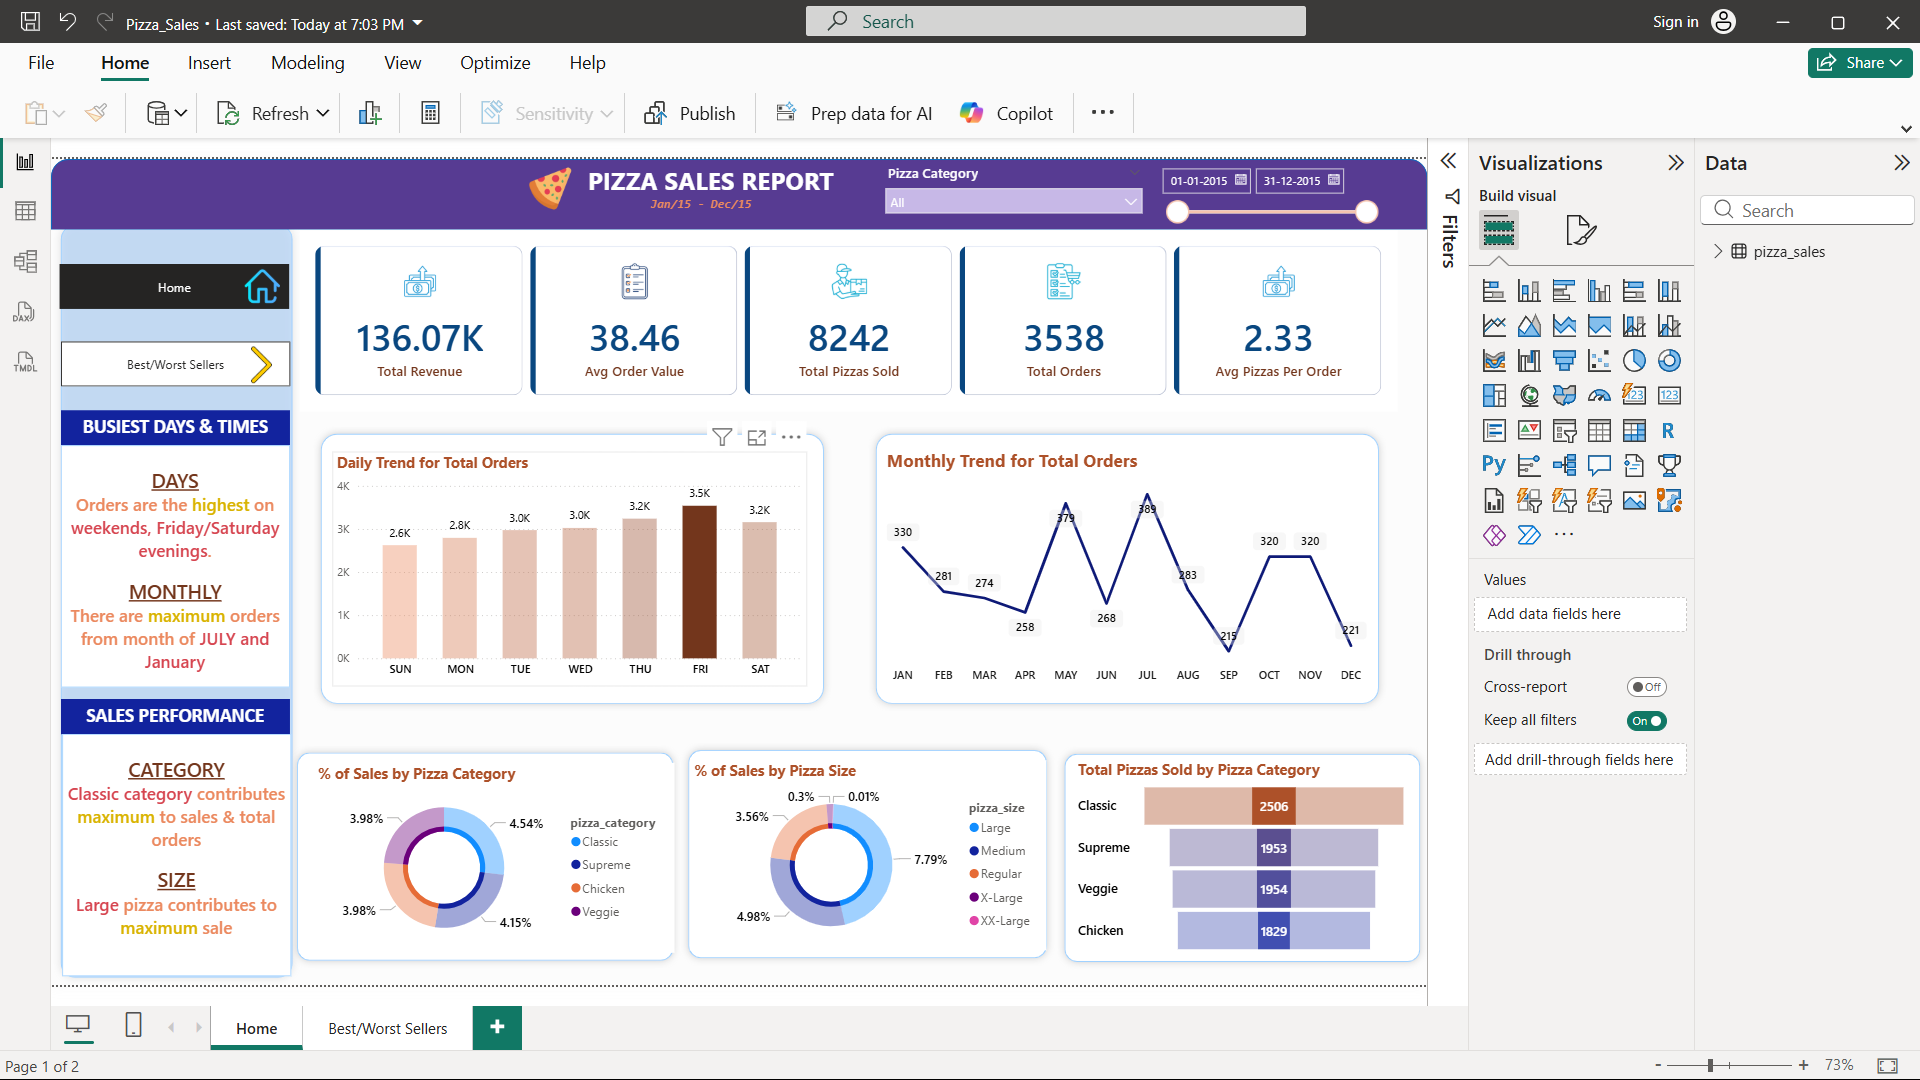

What the dashboard file says about the page in this screenshot:
{"tool":"powerbi","page":{"name":"Home","canvas":[1500,900],"ordinal":0},"visuals":[{"type":"shape","box":[3.2,64.3,268.5,836.2],"z":0},{"type":"textbox","box":[11.3,273.4,249.3,38.6],"z":1000},{"type":"cardVisual","fields":{"Data":["pizza_sales.Total Revenue","pizza_sales.Avg Order Value","pizza_sales.Total Pizzas Sold","pizza_sales.Total Orders","pizza_sales.Avg Pizzas Per Order"]},"box":[271.8,77.2,1196.4,197.8],"z":2000},{"type":"shape","box":[0,0,1500.3,77.2],"z":3000},{"type":"textbox","box":[580.5,0,289.5,45],"z":4000},{"type":"textbox","box":[648.1,33.8,152.8,30.6],"z":5000},{"type":"image","box":[490.5,8,107.7,48.2],"z":6000},{"type":"shape","box":[285.9,292,564.4,310.4],"z":7000},{"type":"columnChart","title":"Daily Trend for Total Orders","fields":{"Category":["pizza_sales.Order Day"],"Y":["pizza_sales.Total Orders"]},"box":[306.8,319.4,517.8,255.7],"z":8000},{"type":"shape","box":[890.5,292,564.4,310.4],"z":9000},{"type":"areaChart","title":"Monthly Trend for Total Orders","fields":{"Y":["pizza_sales.Total Orders"],"Category":["pizza_sales.Order Month"]},"box":[906.6,316.1,533.9,265.3],"z":10000},{"type":"shape","box":[260.5,638.4,426.1,242.8],"z":11000},{"type":"shape","box":[686.6,636.8,406.8,242.8],"z":12000},{"type":"shape","box":[1096.4,640,403.6,242.8],"z":13000},{"type":"donutChart","title":"% of Sales by Pizza Category","fields":{"Category":["pizza_sales.pizza_category"],"Y":["pizza_sales.Total Revenue"]},"box":[286.2,657.7,394,207.4],"z":14000},{"type":"donutChart","title":"% of Sales by Pizza Size","fields":{"Y":["pizza_sales.Total Revenue"],"Category":["pizza_sales.pizza_size"]},"box":[696.3,656.1,389.2,207.4],"z":15000},{"type":"funnel","title":"Total Pizzas Sold by Pizza Category","fields":{"Category":["pizza_sales.pizza_category"],"Y":["pizza_sales.Total Pizzas Sold"]},"box":[1114,654.5,369.9,217.1],"z":16000},{"type":"textbox","box":[11.3,312,249.3,263.7],"z":17000},{"type":"textbox","box":[11.3,588.6,249.3,38.6],"z":18000},{"type":"textbox","box":[12.9,627.1,249.3,263.7],"z":19000},{"type":"slicer","fields":{"Values":["pizza_sales.pizza_category"]},"box":[898.9,0,300.7,64.3],"z":20000},{"type":"slicer","fields":{"Values":["pizza_sales.order_date"]},"box":[1199.6,0,255.7,77.2],"z":21000},{"type":"pageNavigator","box":[9.6,114.2,250.9,49.9],"z":21001},{"type":"pageNavigator","box":[11.3,199.4,250.9,49.9],"z":21002},{"type":"image","box":[180.1,204.2,99.7,40.2],"z":21004},{"type":"image","box":[210.7,112.6,38.6,51.5],"z":21005}]}

Visuals, with their boxes on the page's 1500x900 design canvas (x1, y1, x2, y2). These are canvas units, not pixel positions in the 1920x1080 screenshot, which may show the page scaled, cropped or inside an application window:
shape: box=[3, 64, 272, 900]
textbox: box=[11, 273, 261, 312]
cardVisual - pizza_sales.Total Revenue x pizza_sales.Avg Order Value: box=[272, 77, 1468, 275]
shape: box=[0, 0, 1500, 77]
textbox: box=[580, 0, 870, 45]
textbox: box=[648, 34, 801, 64]
image: box=[490, 8, 598, 56]
shape: box=[286, 292, 850, 602]
"Daily Trend for Total Orders" columnChart: box=[307, 319, 825, 575]
shape: box=[890, 292, 1455, 602]
"Monthly Trend for Total Orders" areaChart: box=[907, 316, 1440, 581]
shape: box=[260, 638, 687, 881]
shape: box=[687, 637, 1093, 880]
shape: box=[1096, 640, 1500, 883]
"% of Sales by Pizza Category" donutChart: box=[286, 658, 680, 865]
"% of Sales by Pizza Size" donutChart: box=[696, 656, 1086, 864]
"Total Pizzas Sold by Pizza Category" funnel: box=[1114, 654, 1484, 872]
textbox: box=[11, 312, 261, 576]
textbox: box=[11, 589, 261, 627]
textbox: box=[13, 627, 262, 891]
slicer - pizza_sales.pizza_category: box=[899, 0, 1200, 64]
slicer - pizza_sales.order_date: box=[1200, 0, 1455, 77]
pageNavigator: box=[10, 114, 260, 164]
pageNavigator: box=[11, 199, 262, 249]
image: box=[180, 204, 280, 244]
image: box=[211, 113, 249, 164]
